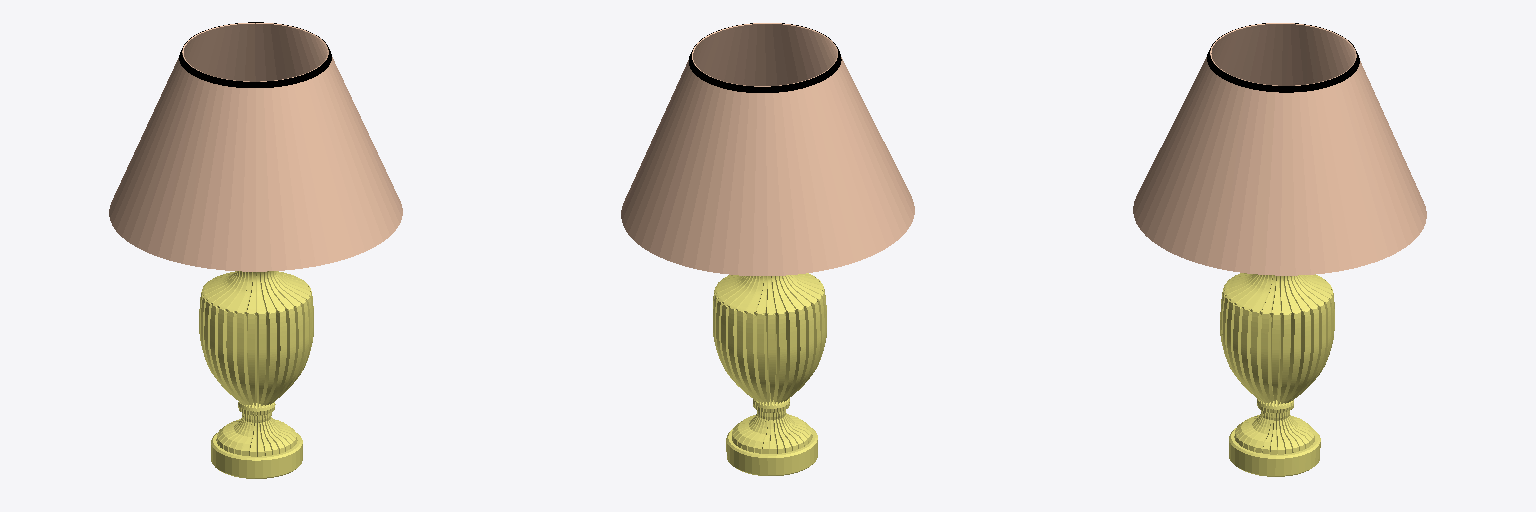
File: light08.obj
3 renders of one model, left to right at view 1: azimuth 30°, elevation 25°; view 2: azimuth 150°, elevation 25°; view 3: azimuth 270°, elevation 25°, orthographic.
Parts seen in each view (by area): view 1: Object.1; view 2: Object.1; view 3: Object.1.
Boxes of the visible parts, <box> form: Object.1: <box>109,22,402,478</box>; Object.1: <box>621,23,914,475</box>; Object.1: <box>1133,23,1426,476</box>.
Size of the model in its own units: 85.52 by 131 by 85.51.